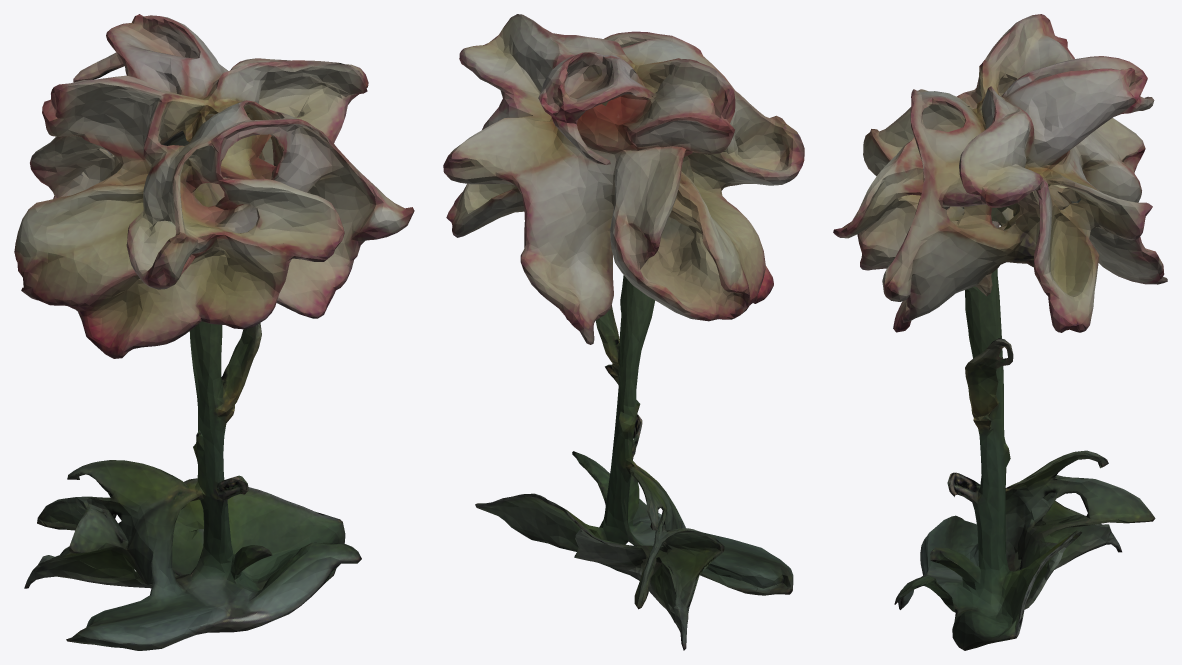
3 renders of one model, left to right at view 1: azimuth 30°, elevation 25°; view 2: azimuth 150°, elevation 25°; view 3: azimuth 270°, elevation 25°, orthographic.
Visible parts, largest first — view 1: world; view 2: world; view 3: world.
Part boxes in pixels (bbox=[...]): world: bbox=[14, 14, 414, 650]; world: bbox=[443, 14, 804, 650]; world: bbox=[833, 14, 1167, 650].
Size of the model in its own units: 0.5701 by 0.947 by 0.5255.
1 material, 1 textured.
